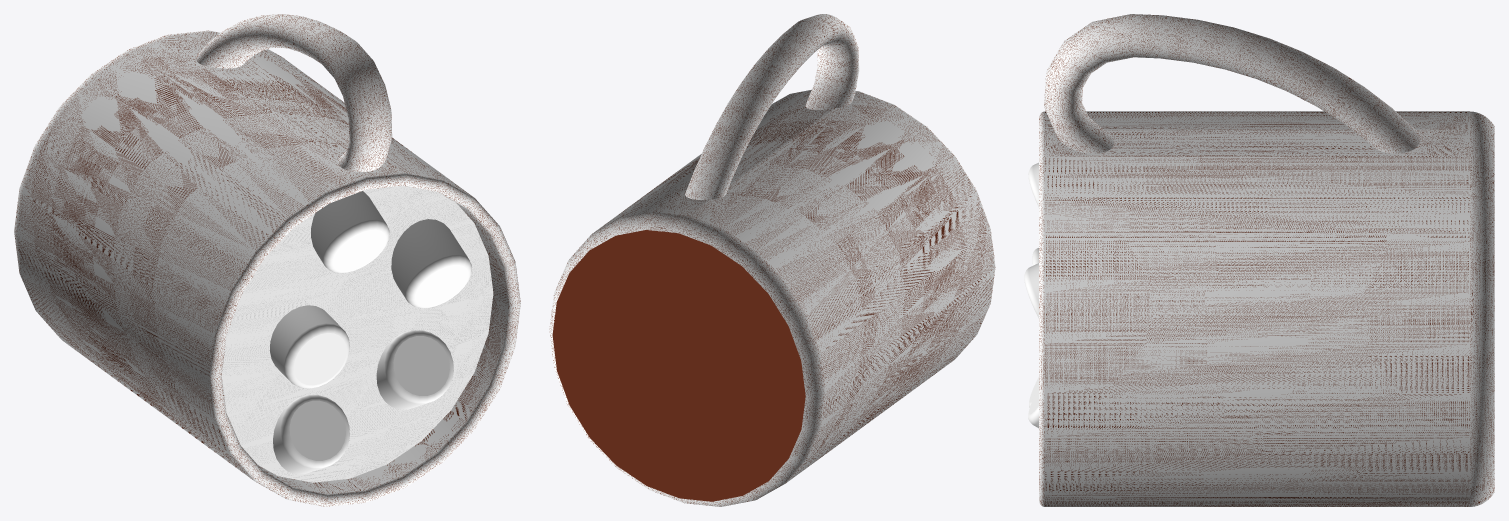
The model's file is model_align.obj.
3 views of the same model, side by side, from view 1: azimuth 30°, elevation 25°; view 2: azimuth 150°, elevation 25°; view 3: azimuth 270°, elevation 25° (orthographic). The views are drawn at different scales.
Visible parts, largest first — view 1: mesh6_mesh6-geometry, mesh2_mesh2-geometry, mesh4_mesh4-geometry, mesh1_mesh1-geometry, mesh5_mesh5-geometry, mesh3_mesh3-geometry; view 2: mesh6_mesh6-geometry; view 3: mesh6_mesh6-geometry, mesh2_mesh2-geometry.
Part boxes in pixels (left/top/right/bottom): mesh6_mesh6-geometry: left=14, top=14, right=520, bottom=506; mesh2_mesh2-geometry: left=391, top=219, right=471, bottom=308; mesh4_mesh4-geometry: left=269, top=305, right=349, bottom=388; mesh1_mesh1-geometry: left=376, top=330, right=453, bottom=409; mesh5_mesh5-geometry: left=273, top=395, right=349, bottom=474; mesh3_mesh3-geometry: left=311, top=191, right=389, bottom=272; mesh6_mesh6-geometry: left=549, top=14, right=995, bottom=506; mesh6_mesh6-geometry: left=1039, top=14, right=1494, bottom=506; mesh2_mesh2-geometry: left=1024, top=263, right=1038, bottom=318.
Bounding box in the file's own units: 0.092 × 0.1223 × 0.1091.
